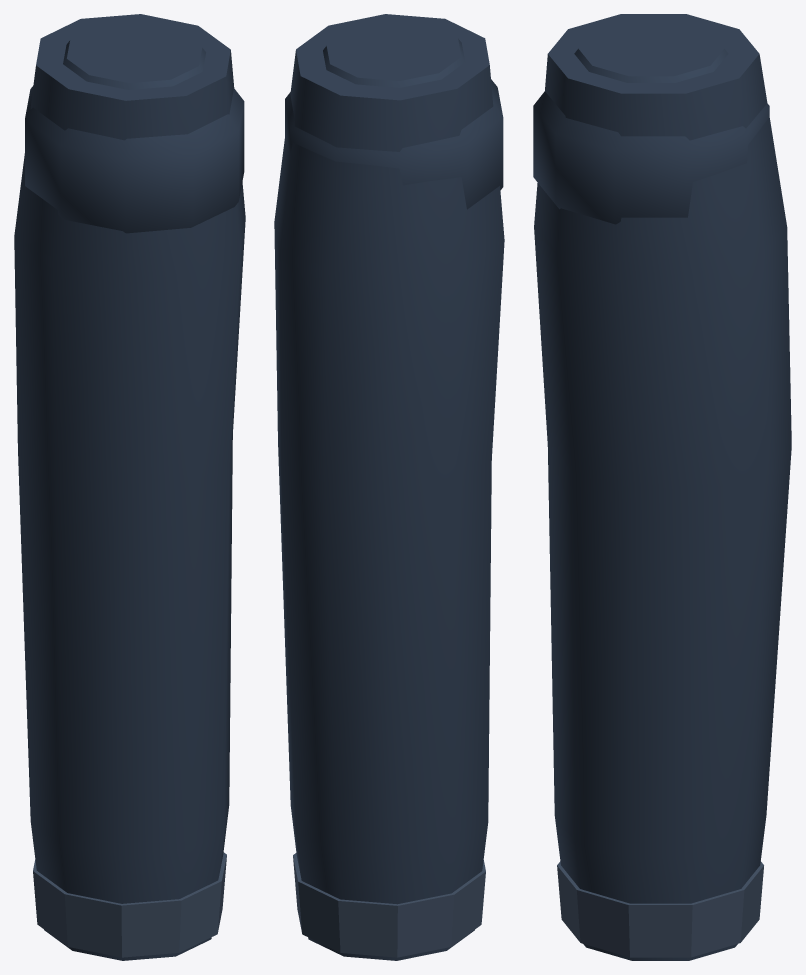
The model's file is pierna_izq.obj.
3 views of the same model, side by side, from view 1: azimuth 30°, elevation 25°; view 2: azimuth 150°, elevation 25°; view 3: azimuth 270°, elevation 25° (orthographic).
Parts seen in each view (by area): view 1: pierna_izq; view 2: pierna_izq; view 3: pierna_izq.
Boxes of the visible parts, x1,y1,x2,y2 form: pierna_izq: (14, 14, 245, 960); pierna_izq: (274, 14, 504, 960); pierna_izq: (533, 14, 791, 960).
Size of the model in its own units: 0.097 by 0.4205 by 0.1124.
